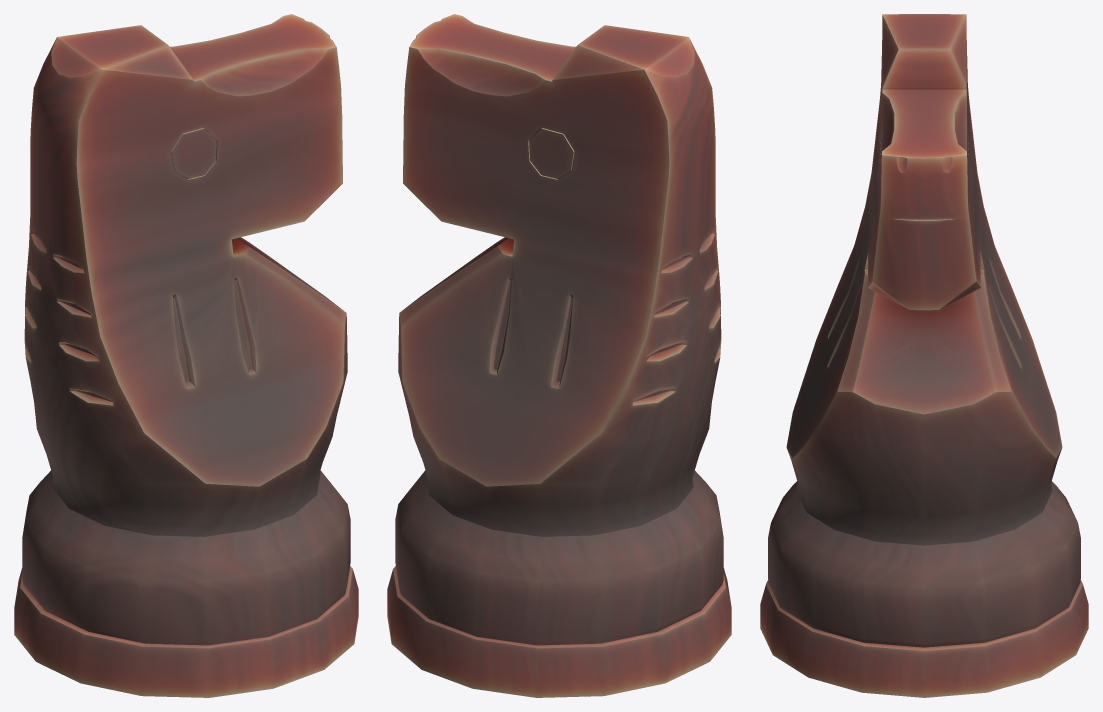
The model's file is Конь.fbx.
3 renders of one model, left to right at view 1: azimuth 30°, elevation 25°; view 2: azimuth 150°, elevation 25°; view 3: azimuth 270°, elevation 25°, orthographic. The views are drawn at different scales.
Visible parts, largest first — view 1: Конь; view 2: Конь; view 3: Конь.
Part boxes in pixels (x1,y1,x2,y2): Конь: [14, 14, 358, 697]; Конь: [387, 14, 731, 697]; Конь: [760, 14, 1088, 697].
Size of the model in its own units: 195 by 370 by 195.
1 material, 1 textured.
